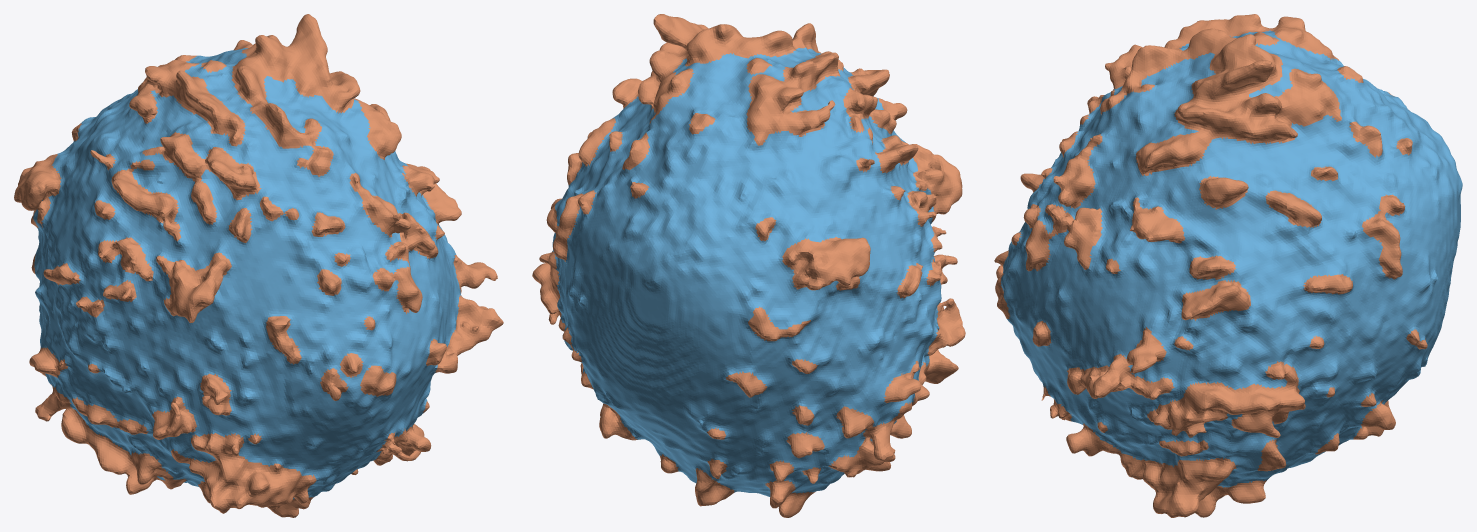
3 renders of one model, left to right at view 1: azimuth 30°, elevation 25°; view 2: azimuth 150°, elevation 25°; view 3: azimuth 270°, elevation 25°, orthographic. The views are drawn at different scales.
Bounding box in the file's own units: 140 × 152 × 143.
